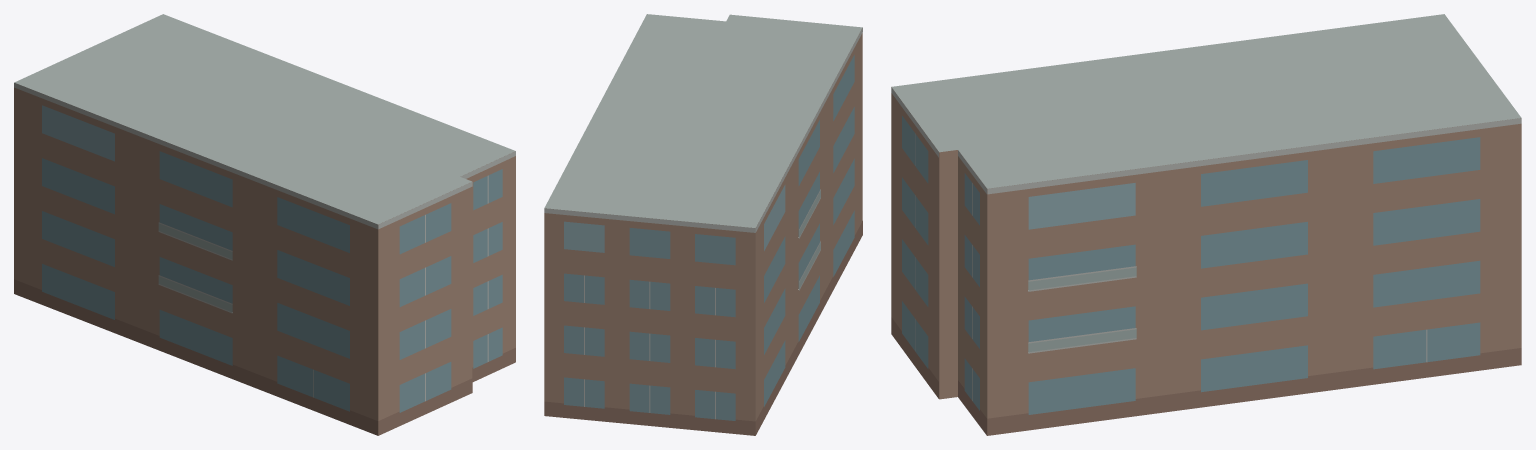
Rendered from survey-upis-32621587.glb.
The picture shows the model from 3 angles, left to right: view 1: azimuth 30°, elevation 25°; view 2: azimuth 150°, elevation 25°; view 3: azimuth 270°, elevation 25°; orthographic projection. The views are drawn at different scales.
Parts seen in each view (by area): view 1: survey-upis-32621587.tmp; view 2: survey-upis-32621587.tmp; view 3: survey-upis-32621587.tmp.
Boxes of the visible parts, x1=… form: survey-upis-32621587.tmp: x1=14, y1=14, x2=515, y2=435; survey-upis-32621587.tmp: x1=544, y1=14, x2=862, y2=435; survey-upis-32621587.tmp: x1=891, y1=14, x2=1521, y2=435.
Size of the model in its own units: 15.93 by 10.5 by 24.28.
